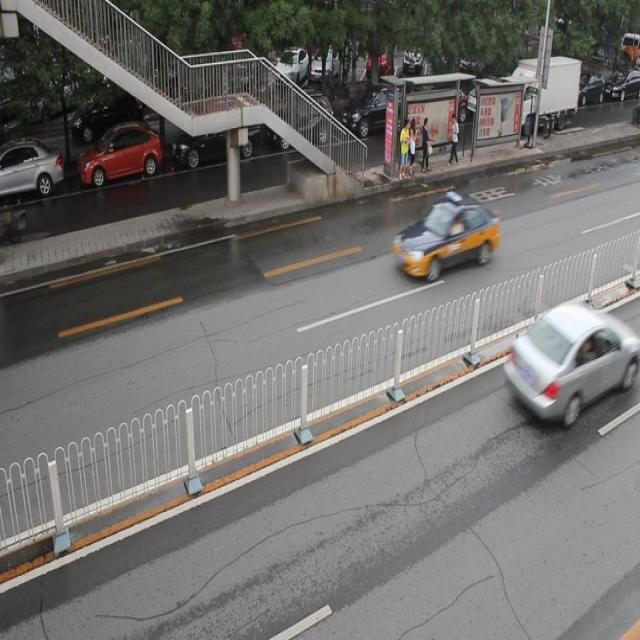bus: (500, 54, 579, 132)
car: (504, 300, 630, 429), (394, 190, 499, 278), (78, 121, 161, 186), (172, 107, 260, 168), (267, 89, 334, 149), (1, 137, 63, 200), (340, 81, 406, 137)
